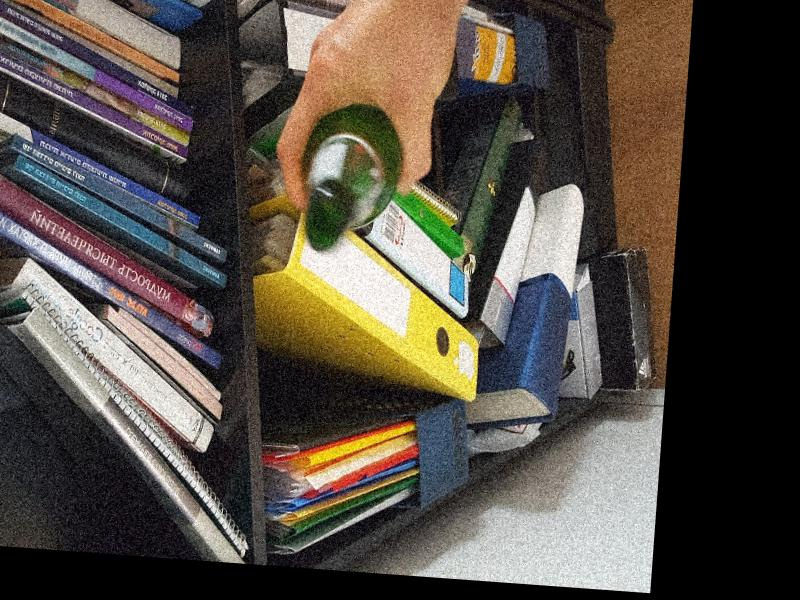Beer: (297, 100, 406, 256)
